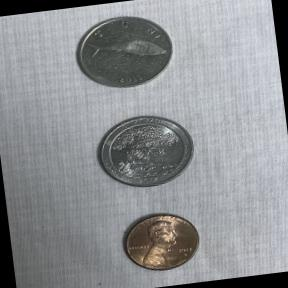coin: (89, 108, 202, 199), (68, 9, 182, 98), (116, 206, 206, 279)
